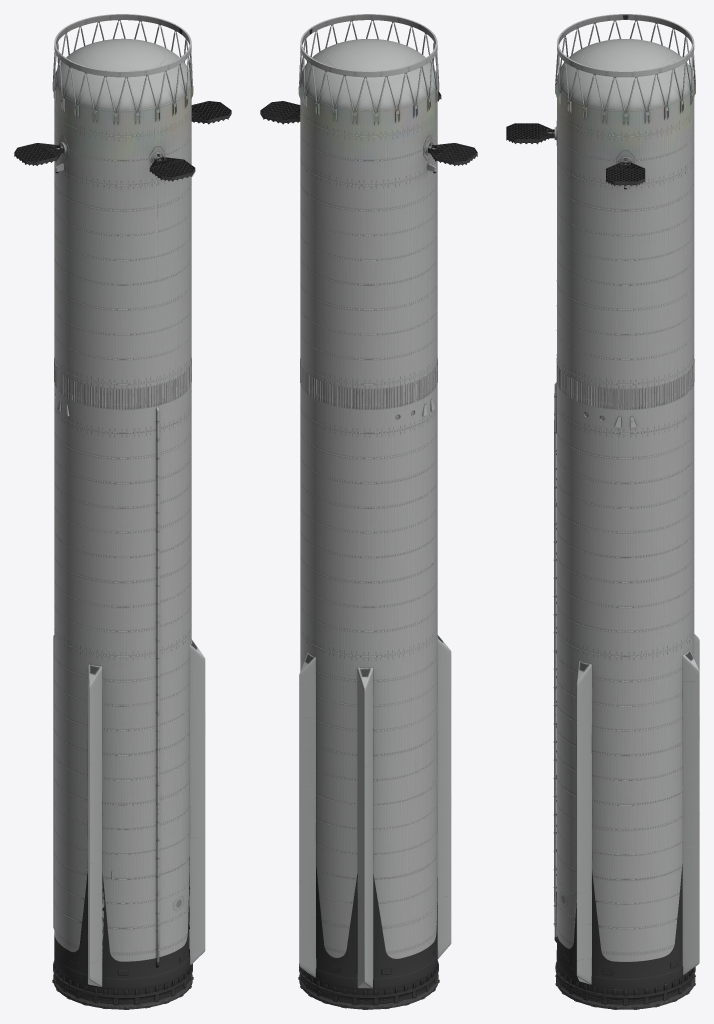
File: booster.glb
3 renders of one model, left to right at view 1: azimuth 30°, elevation 25°; view 2: azimuth 150°, elevation 25°; view 3: azimuth 270°, elevation 25°, orthographic.
Parts seen in each view (by area): view 1: Superheavy_v3_36, Gridfin_Y+_0, Gridfin_Z-_2, Gridfin_Y-_1; view 2: Superheavy_v3_36, Gridfin_Y+_0, Gridfin_Y-_1; view 3: Superheavy_v3_36, Gridfin_Z-_2, Gridfin_Y-_1.
Boxes of the visible parts, left/top/right/bottom form: Superheavy_v3_36: left=52, top=14, right=205, bottom=1009; Gridfin_Y+_0: left=14, top=143, right=63, bottom=165; Gridfin_Z-_2: left=149, top=156, right=195, bottom=181; Gridfin_Y-_1: left=191, top=101, right=231, bottom=124; Superheavy_v3_36: left=298, top=14, right=451, bottom=1009; Gridfin_Y+_0: left=428, top=143, right=477, bottom=165; Gridfin_Y-_1: left=260, top=101, right=300, bottom=124; Superheavy_v3_36: left=553, top=14, right=699, bottom=1009; Gridfin_Z-_2: left=506, top=123, right=554, bottom=144; Gridfin_Y-_1: left=606, top=161, right=645, bottom=185.
Bounding box in the file's own units: 15.62 × 67.82 × 12.66.
1 material, 1 textured.
